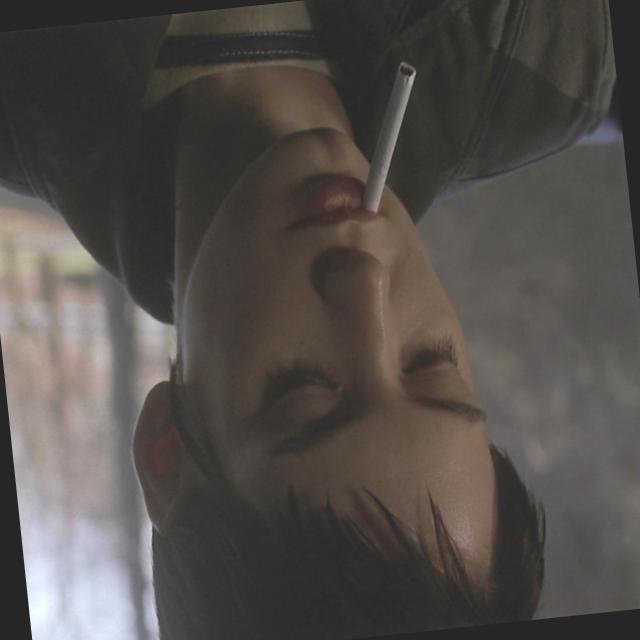cigarette: (329, 48, 454, 234)
